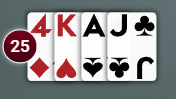4: (26, 11, 53, 40)
a: (79, 11, 108, 40)
j: (107, 11, 133, 39)
k: (52, 10, 80, 40)
